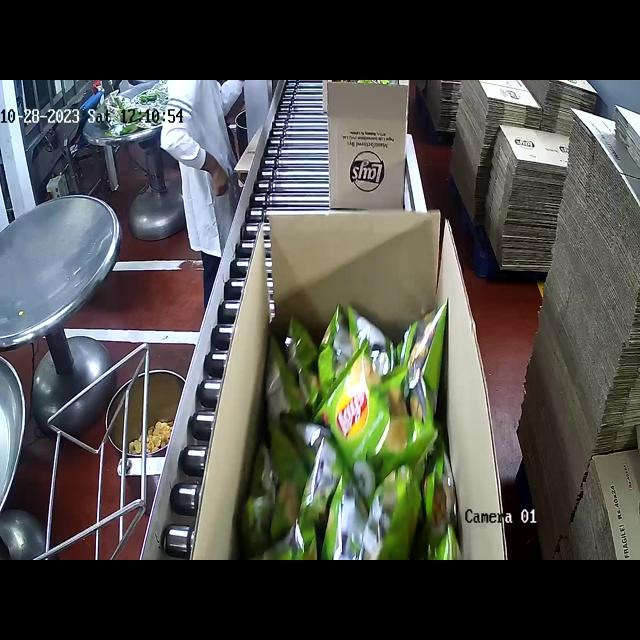yogurt: (240, 297, 461, 558)
